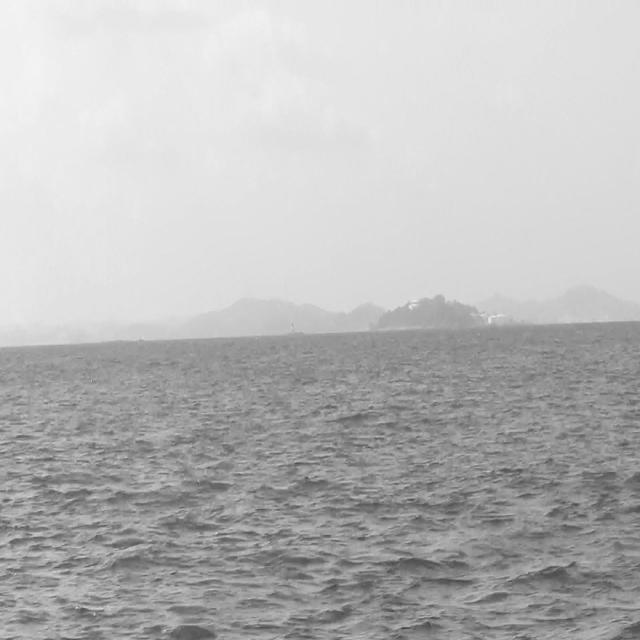boat: (282, 314, 303, 340)
